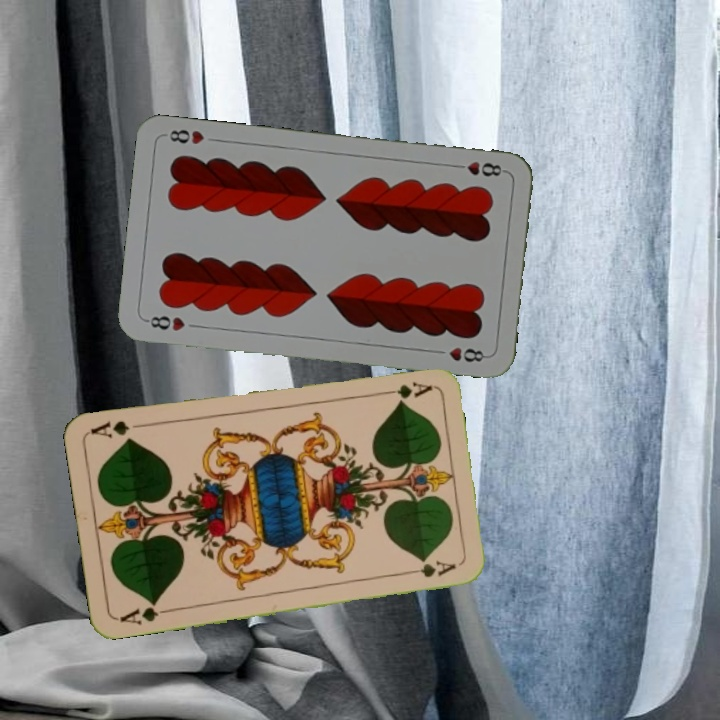GA: (115, 597, 173, 627), (375, 377, 434, 401)
H8: (449, 157, 509, 179), (142, 312, 188, 334)
